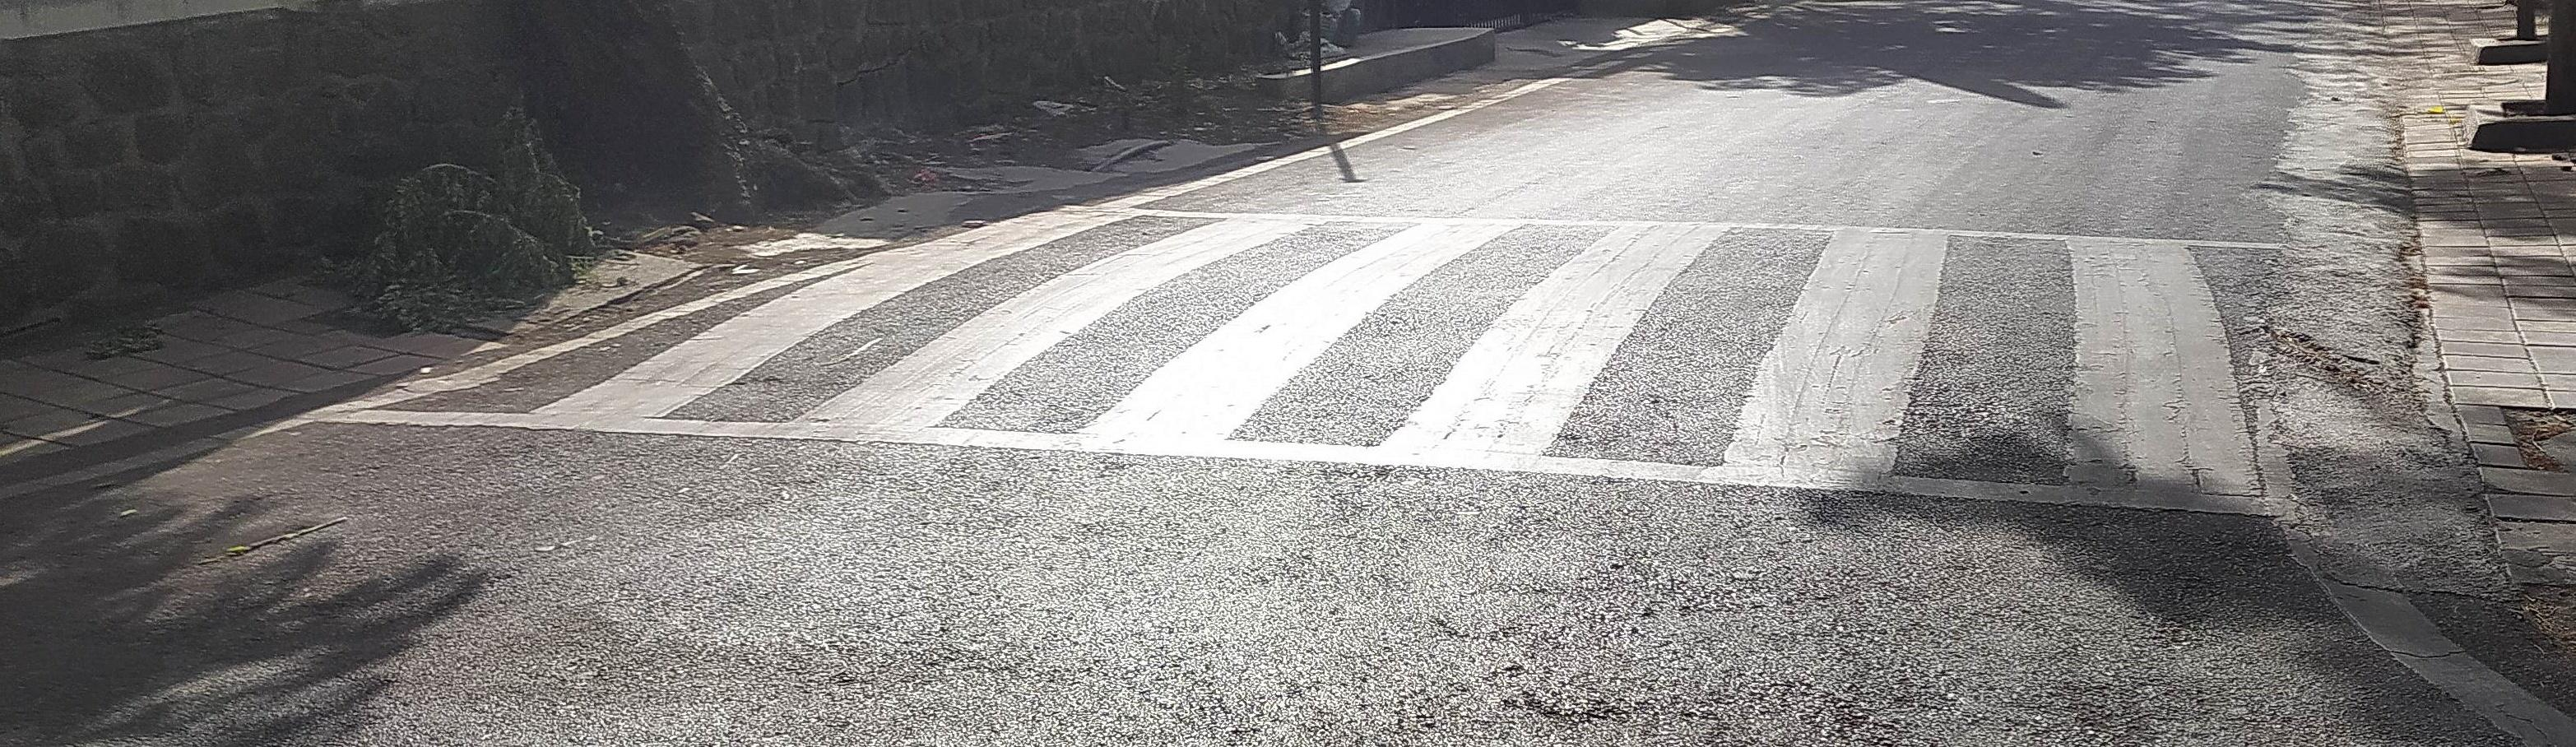speed-bump: (333, 189, 2401, 550)
